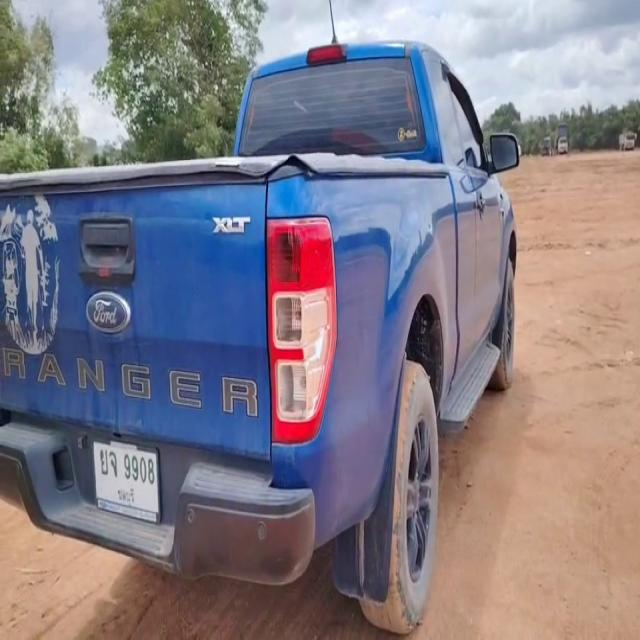Digit: (123, 451, 154, 486)
Licenseplate: (90, 435, 163, 527)
Provincename: (114, 487, 135, 505)
Thaichar: (99, 446, 118, 478)
